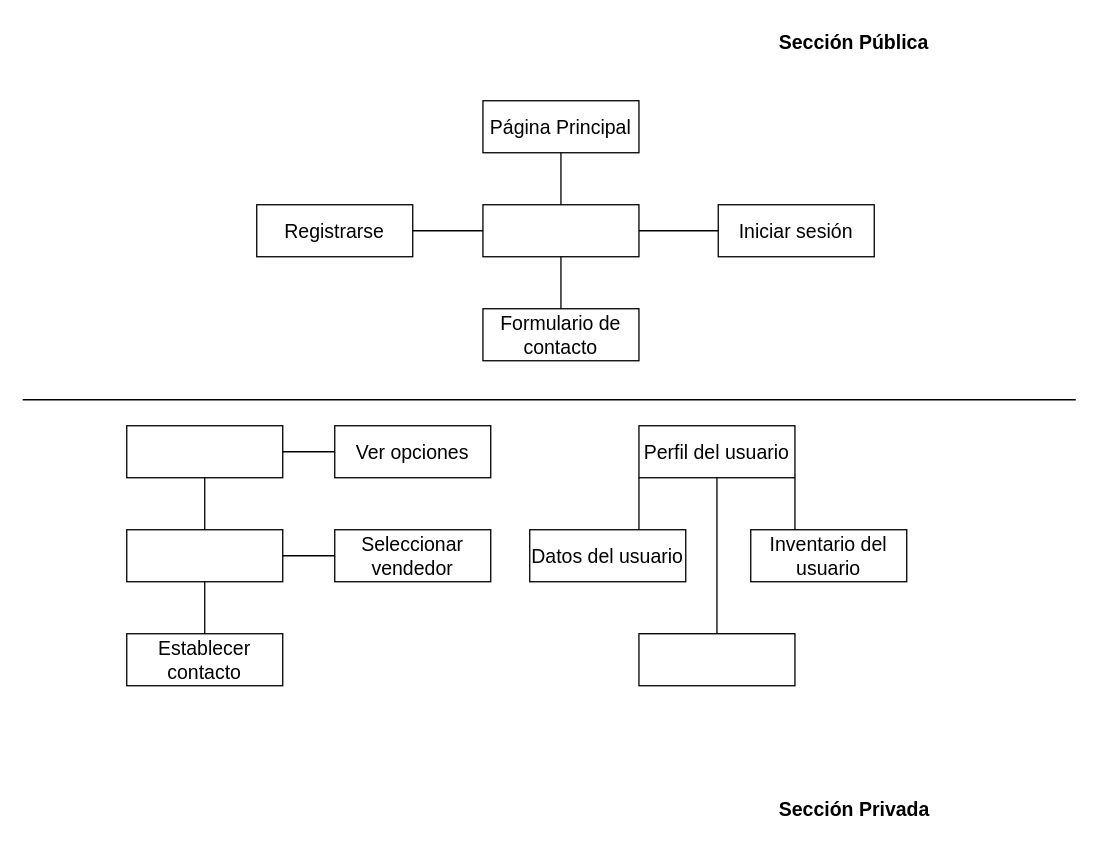
Image size: 1100x850. Some labels were removed from this diagram. Each missing label, with the box of its shape:
Listado de vendedores: (125, 528, 283, 582)
Listado productos disp.: (125, 424, 283, 478)
Notificaciones: (638, 632, 795, 686)
Producto encontrado: (482, 203, 639, 257)
